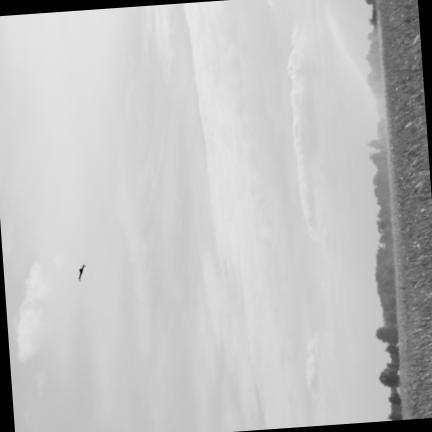Shahed: (78, 263, 84, 280)
